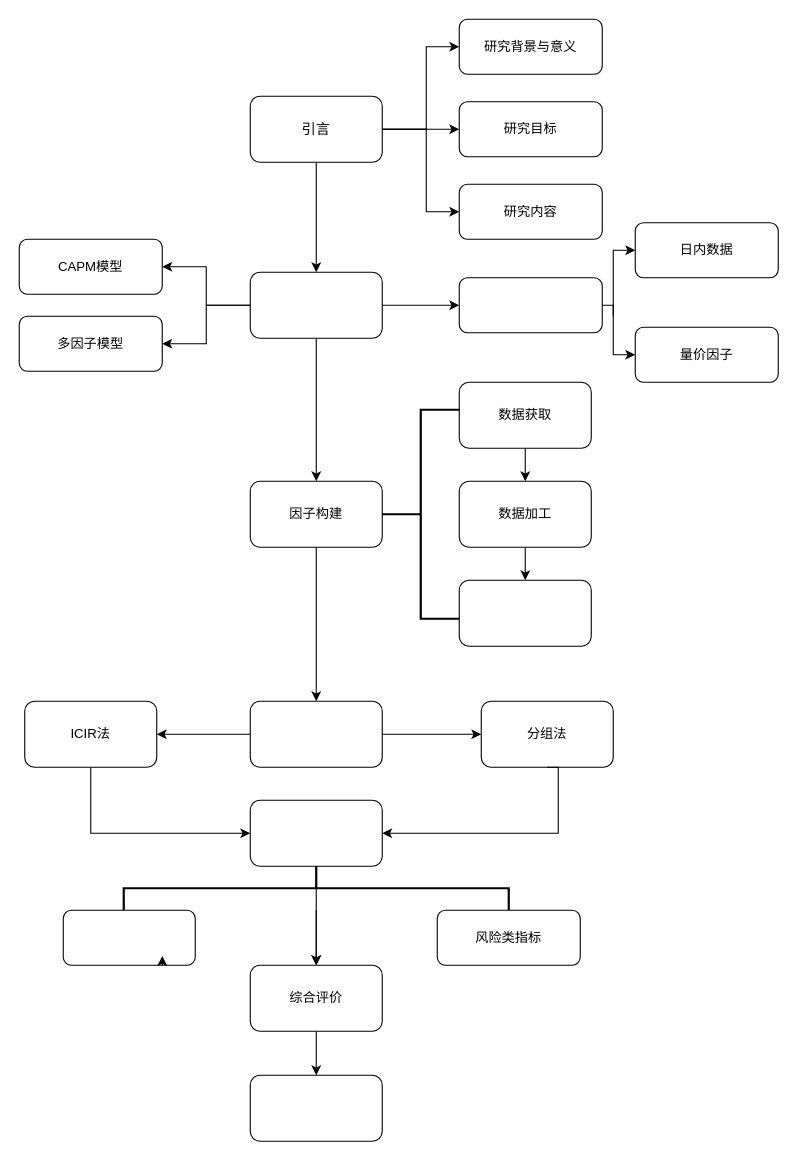
This 798x1161 diagram has some shape labels left out. Here are the shapes that lost their labels. From the top down, the centre of each, then its label:
At pixel 315 304: "理论基础与文献综述".
At pixel 530 305: "国内外研究".
At pixel 524 612: "构建因子".
At pixel 315 733: "因子回测".
At pixel 315 832: "指标评价".
At pixel 128 937: "收益类指标".
At pixel 315 1107: "结论与展望".
